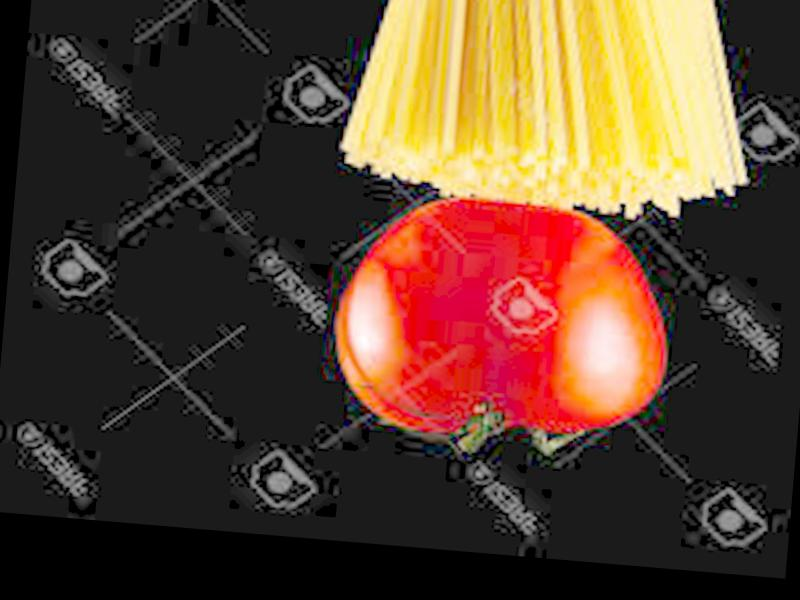Tomato: (333, 186, 676, 452)
